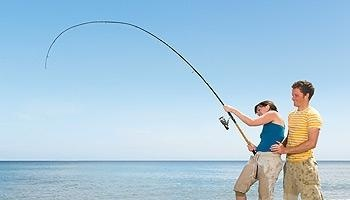person without safety: (232, 99, 287, 200), (283, 78, 325, 200)
